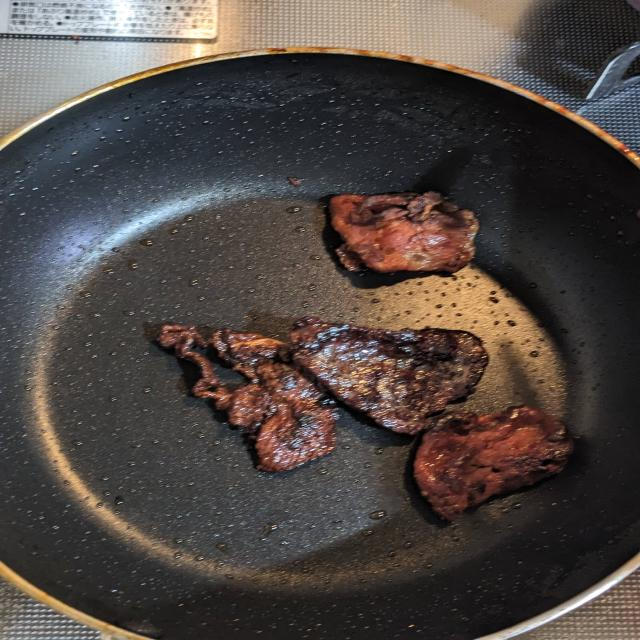overcooked beef,: (143, 325, 353, 482), (280, 312, 495, 442)
overcooked pork: (406, 400, 580, 529), (315, 188, 495, 289)
